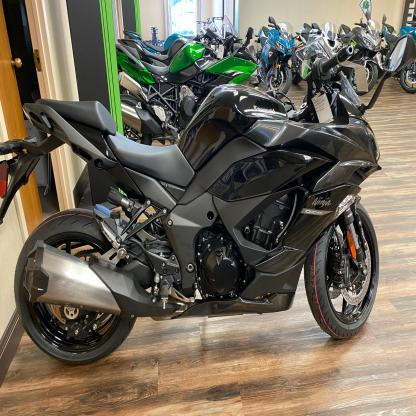Motorcycle: (13, 37, 385, 367)
